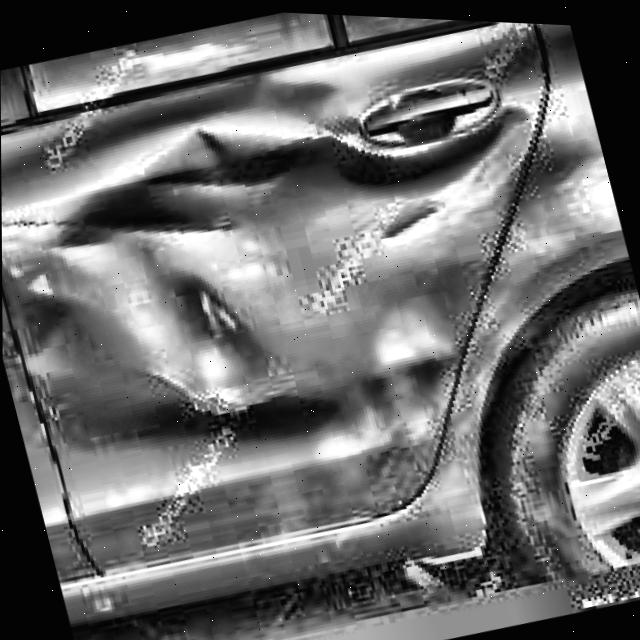door_dent: (1, 76, 475, 508)
